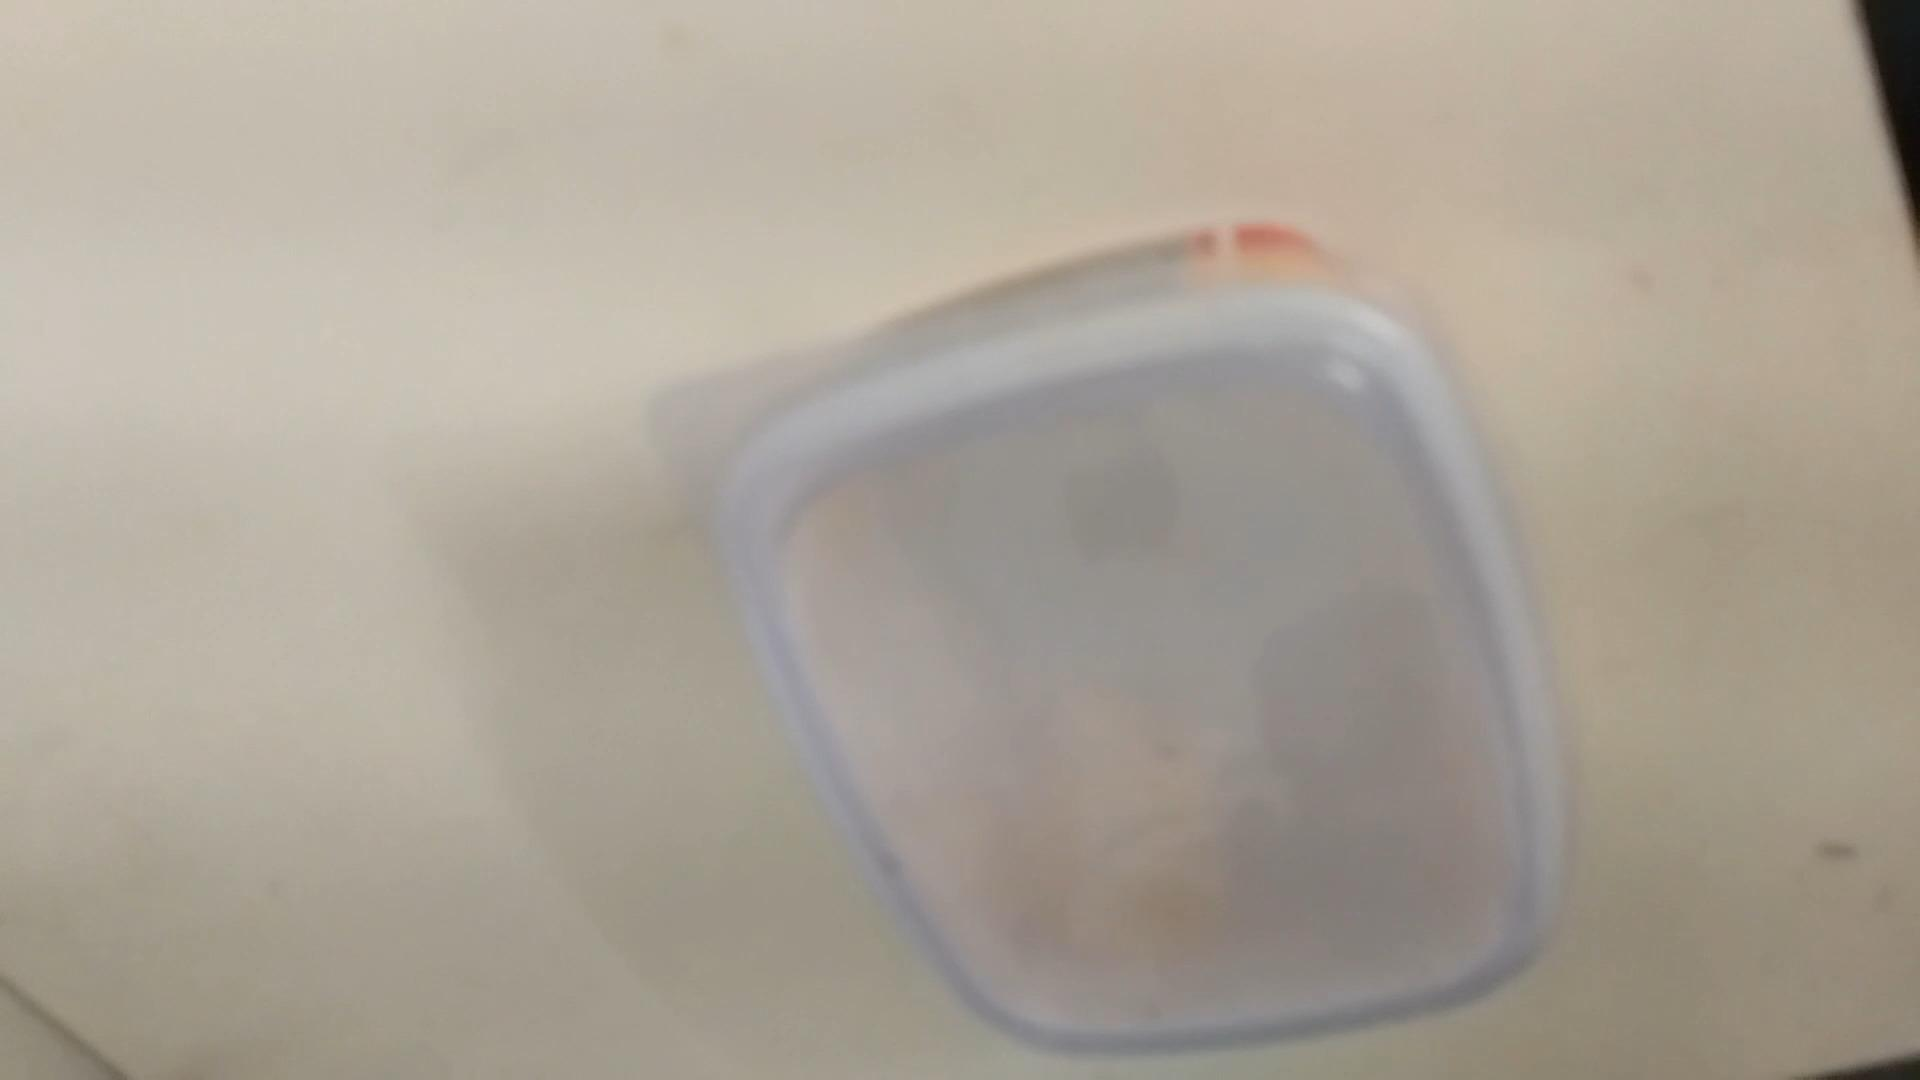butter: (704, 243, 1567, 1067)
